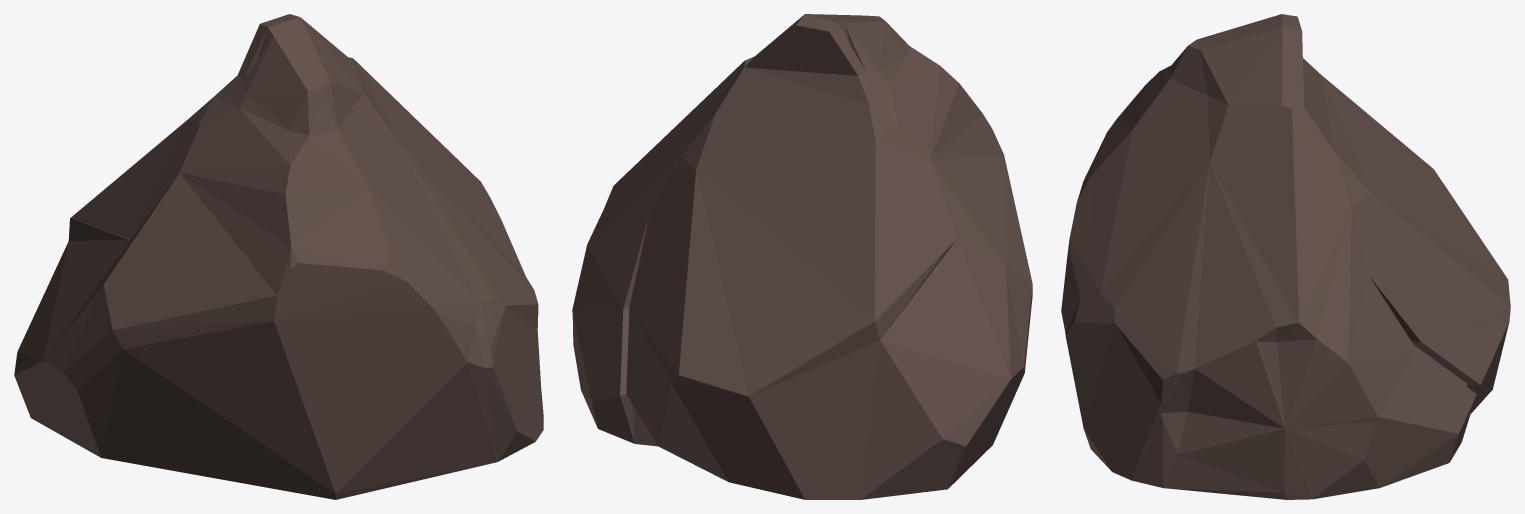
The model's file is Rock 8.fbx.
The picture shows the model from 3 angles, left to right: view 1: azimuth 30°, elevation 25°; view 2: azimuth 150°, elevation 25°; view 3: azimuth 270°, elevation 25°; orthographic projection. The views are drawn at different scales.
Visible parts, largest first — view 1: Cliff shard 8; view 2: Cliff shard 8; view 3: Cliff shard 8.
Part boxes in pixels (x1,y1,x2,y2): Cliff shard 8: [14, 14, 543, 499]; Cliff shard 8: [572, 14, 1032, 499]; Cliff shard 8: [1061, 14, 1510, 499].
Bounding box in the file's own units: 1.1 × 0.9418 × 1.02.
